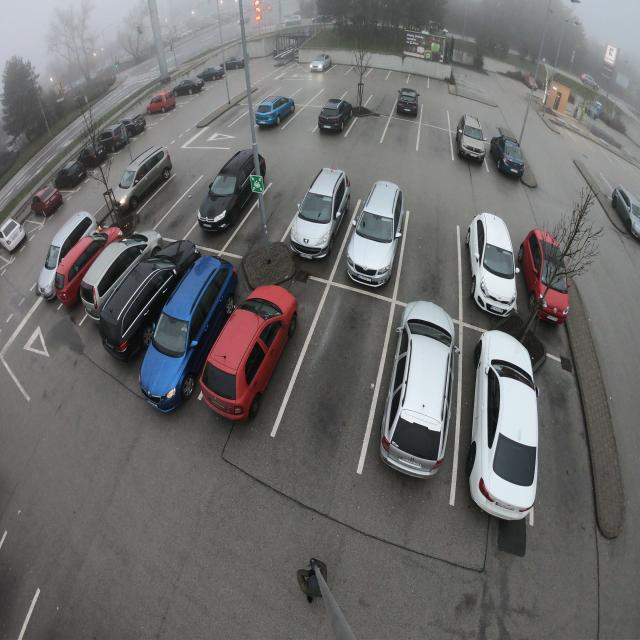empty: (298, 298, 365, 460), (406, 212, 457, 301), (260, 174, 290, 245), (176, 176, 198, 238), (425, 119, 450, 171), (391, 116, 416, 160), (146, 178, 166, 229), (353, 116, 376, 151), (217, 102, 236, 135), (373, 84, 392, 115), (429, 101, 450, 127), (299, 107, 316, 138), (347, 80, 367, 104), (243, 102, 256, 134), (254, 77, 271, 99), (318, 87, 336, 106), (298, 81, 312, 103), (284, 77, 299, 97)
occupied: (472, 327, 548, 539), (384, 308, 467, 496), (154, 260, 218, 406), (213, 284, 278, 426), (101, 248, 167, 360), (464, 208, 517, 322), (350, 172, 399, 292), (195, 147, 259, 227), (288, 160, 343, 252), (528, 227, 576, 323), (37, 218, 90, 304), (118, 139, 178, 212), (84, 237, 134, 312), (58, 240, 106, 310), (125, 141, 174, 202), (495, 122, 531, 180), (457, 112, 483, 166)
